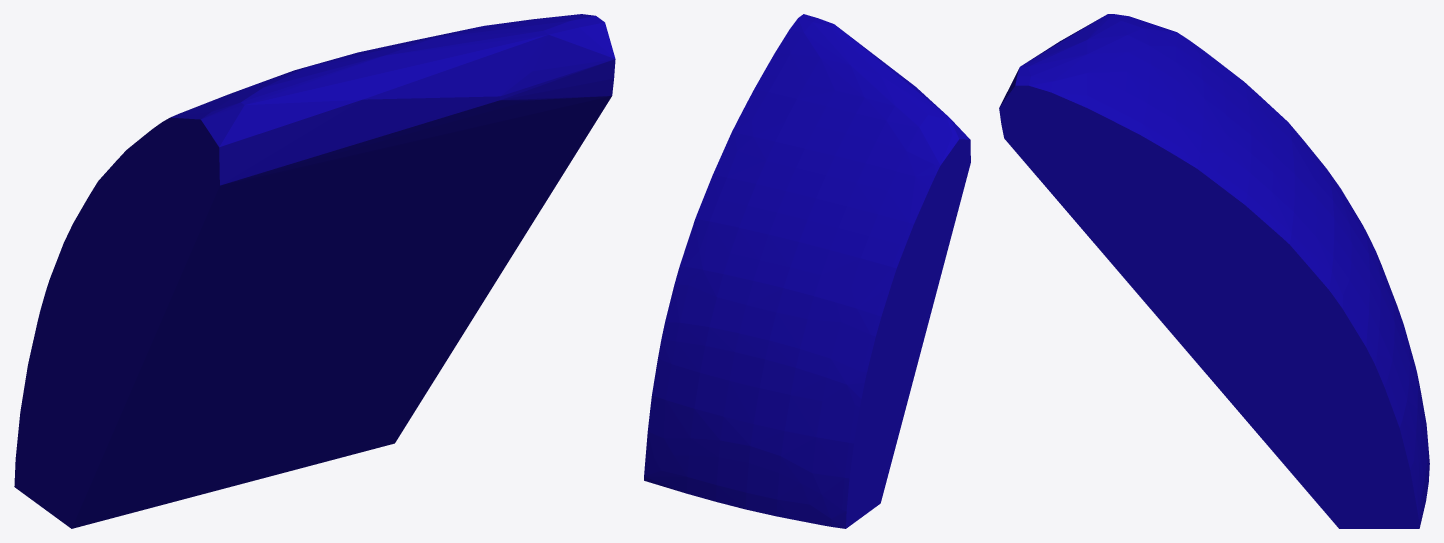
3 views of the same model, side by side, from view 1: azimuth 30°, elevation 25°; view 2: azimuth 150°, elevation 25°; view 3: azimuth 270°, elevation 25° (orthographic). The views are drawn at different scales.
Bounding box in the file's own units: 0.0232 × 0.0386 × 0.034.
